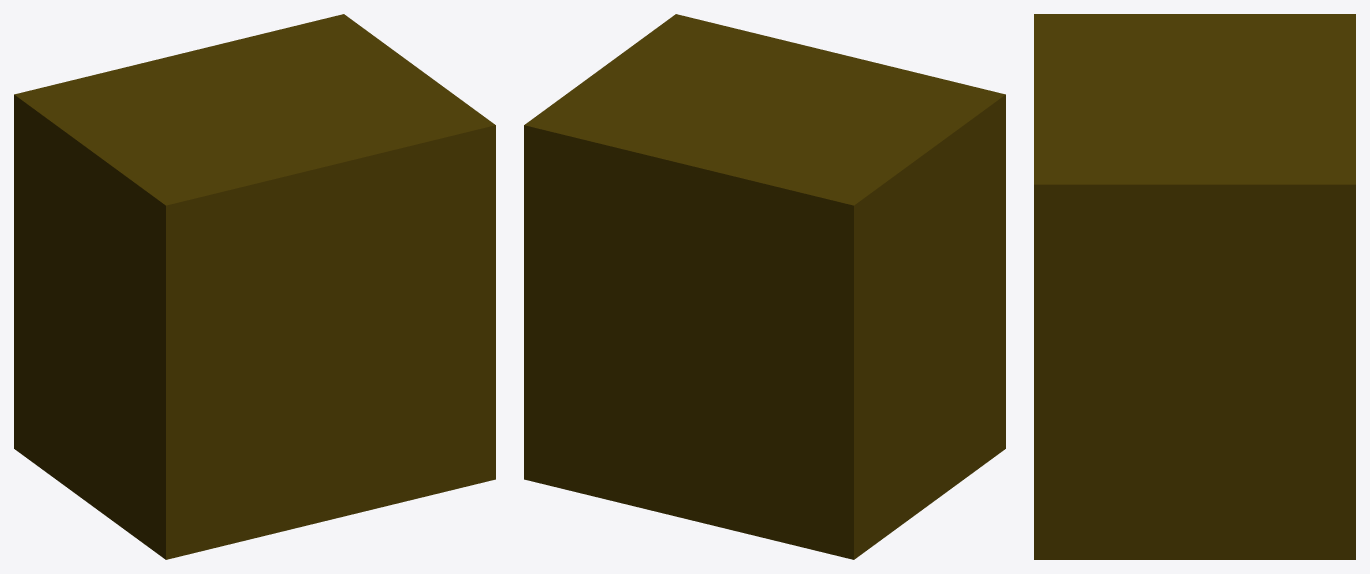
File: koerper.fbx
3 views of the same model, side by side, from view 1: azimuth 30°, elevation 25°; view 2: azimuth 150°, elevation 25°; view 3: azimuth 270°, elevation 25° (orthographic). The views are drawn at different scales.
Visible parts, largest first — view 1: pCube8; view 2: pCube8; view 3: pCube8.
Boxes of the visible parts, left/top/right/bottom form: pCube8: left=14, top=14, right=495, bottom=559; pCube8: left=524, top=14, right=1005, bottom=559; pCube8: left=1034, top=14, right=1355, bottom=559.
Bounding box in the file's own units: 2.36 × 2.42 × 1.88.
